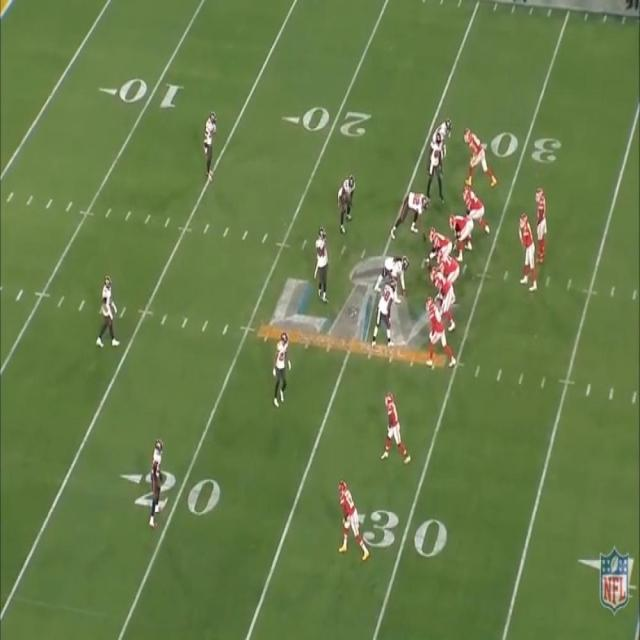center: (426, 225, 452, 272)
db: (101, 273, 119, 346), (274, 335, 291, 397), (151, 438, 161, 526), (206, 111, 214, 173), (437, 116, 452, 137)
lb: (315, 229, 331, 297), (338, 173, 355, 230)
qb: (517, 216, 536, 291)
